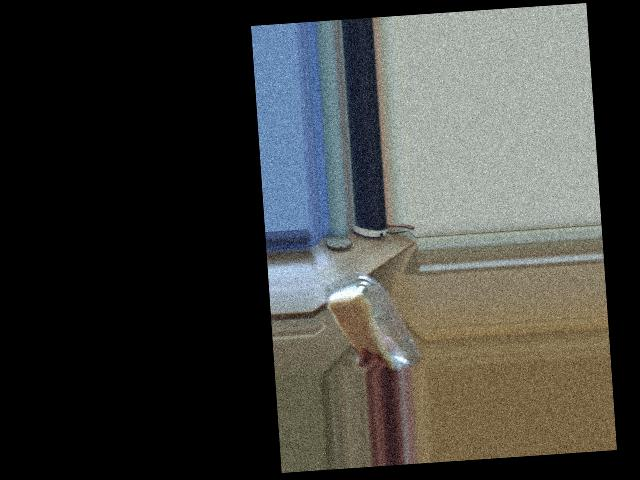cheese: (336, 280, 403, 339)
